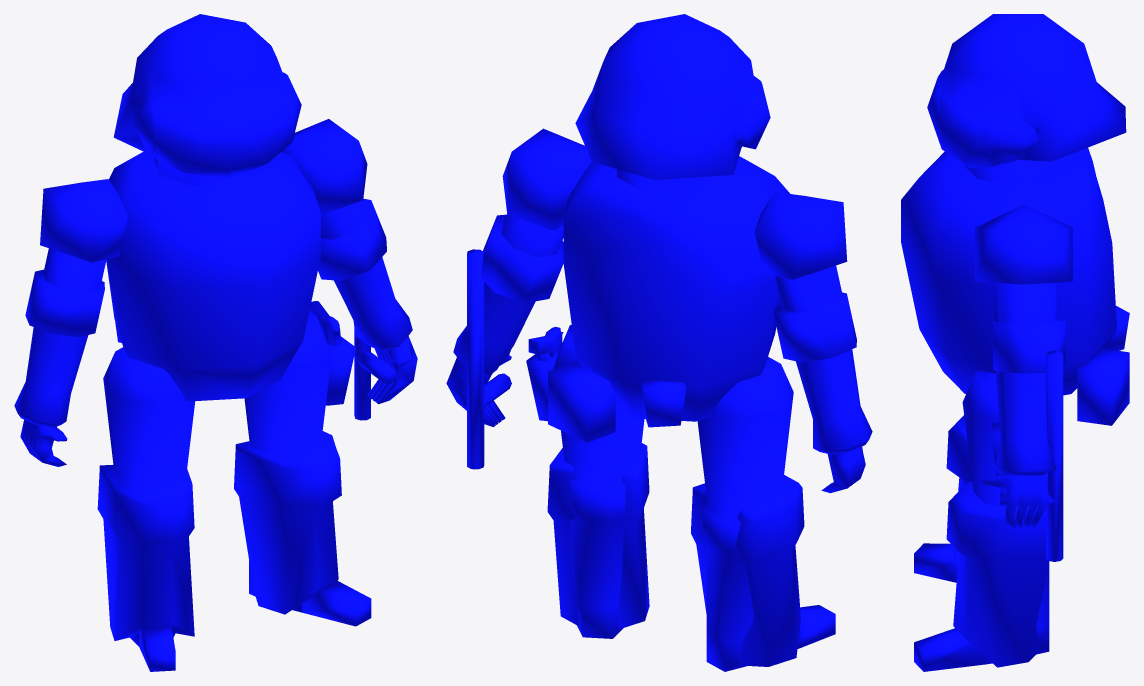
Rendered from 200824_Soldier_Test_03.gltf.
The picture shows the model from 3 angles, left to right: view 1: azimuth 30°, elevation 25°; view 2: azimuth 150°, elevation 25°; view 3: azimuth 270°, elevation 25°; orthographic projection. The views are drawn at different scales.
Parts seen in each view (by area): view 1: Stormtrouper; view 2: Stormtrouper; view 3: Stormtrouper.
Boxes of the visible parts, x1,y1,x2,y2 form: Stormtrouper: (14,14,417,671); Stormtrouper: (446,14,872,671); Stormtrouper: (901,14,1129,671).
Bounding box in the file's own units: 1.68 × 2.43 × 0.841.
